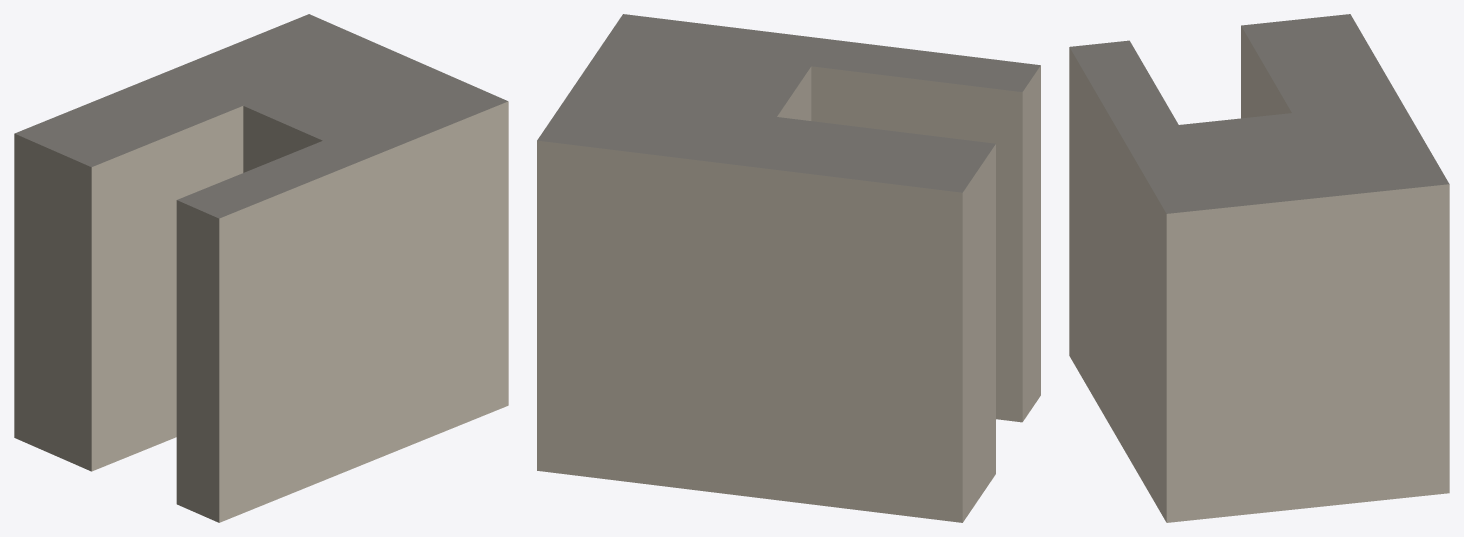
3 renders of one model, left to right at view 1: azimuth 30°, elevation 25°; view 2: azimuth 150°, elevation 25°; view 3: azimuth 270°, elevation 25°, orthographic. The views are drawn at different scales.
Visible parts, largest first — view 1: HP-w1198554862; view 2: HP-w1198554862; view 3: HP-w1198554862.
Boxes of the visible parts, box(x1,y1,x2,y2) form: HP-w1198554862: box(14, 14, 508, 522); HP-w1198554862: box(537, 14, 1040, 522); HP-w1198554862: box(1069, 14, 1449, 522).
Size of the model in its own units: 24.97 by 18 by 20.07.
